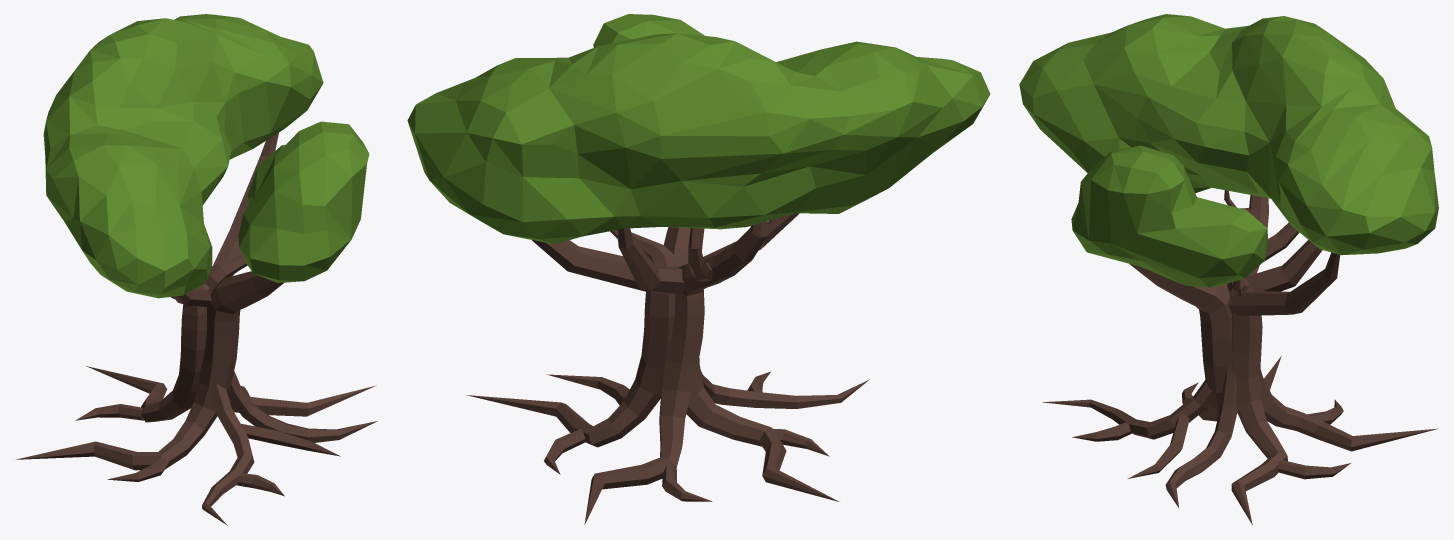
Rendered from oak_tree.fbx.
3 views of the same model, side by side, from view 1: azimuth 30°, elevation 25°; view 2: azimuth 150°, elevation 25°; view 3: azimuth 270°, elevation 25° (orthographic). The views are drawn at different scales.
Parts seen in each view (by area): view 1: Leaves, Trunk; view 2: Leaves, Trunk; view 3: Leaves, Trunk.
Part boxes in pixels (<box>): Leaves: <box>43,14,369,298</box>; Trunk: <box>14,132,377,525</box>; Leaves: <box>407,14,990,244</box>; Trunk: <box>466,213,869,524</box>; Leaves: <box>1019,14,1438,287</box>; Trunk: <box>1042,190,1438,525</box>.
Bounding box in the file's own units: 465 × 474 × 455.
